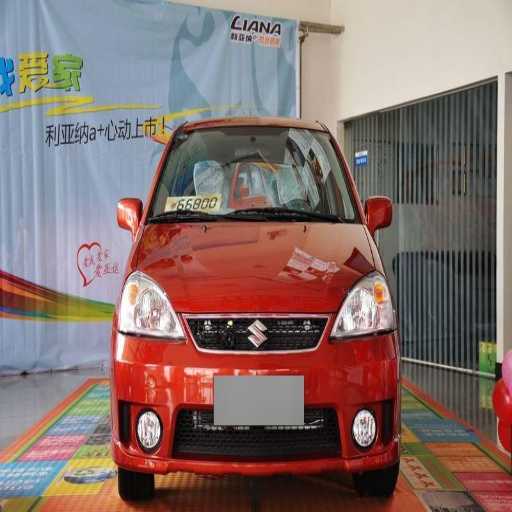front_bumper: (116, 311, 398, 478)
front_right_light: (115, 268, 185, 342)
hood: (137, 223, 374, 311)
